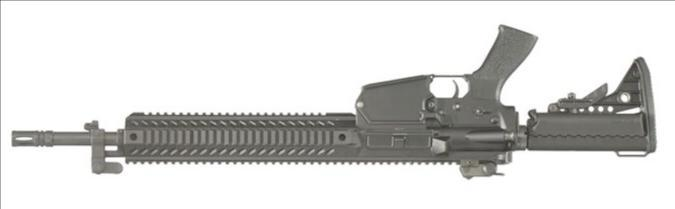gun: (9, 19, 659, 180)
